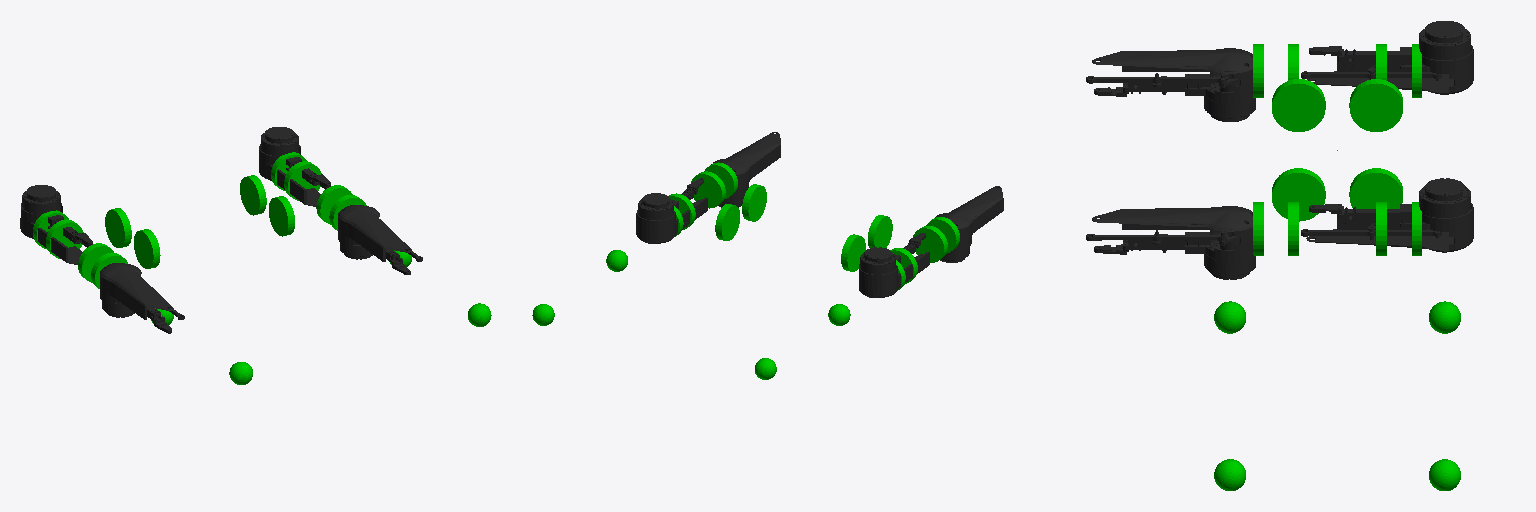
--- Render facts (derived) ---
3 views of the same robot in one strip: view 1: azimuth 30°, elevation 25°; view 2: azimuth 150°, elevation 25°; view 3: azimuth 270°, elevation 25° (orthographic).
Model b1_description with 31 links and 30 joints (12 revolute, 18 fixed), rooted at base, posed joints at zero except 4 at the middle of their limits (FR_calf_joint = -1.6, FL_calf_joint = -1.6, RR_calf_joint = -1.6, RL_calf_joint = -1.6).
Visible links, largest first — view 1: FR_thigh, RR_thigh, RL_thigh, FL_thigh, FL_hip_rotor, RL_hip_rotor, RR_hip_rotor, FR_hip_rotor, RR_thigh_rotor, FR_thigh_rotor, FL_thigh_rotor, RL_thigh_rotor; view 2: FL_thigh, RL_thigh, RR_thigh, FR_thigh, RR_thigh_rotor, FR_thigh_rotor, FR_hip_rotor, FL_hip_rotor, RL_hip_rotor, RR_hip_rotor, RR_calf_rotor, FR_calf_rotor; view 3: RR_thigh, FR_thigh, FL_thigh, RL_thigh, RR_hip_rotor, RL_hip_rotor, FR_hip_rotor, FL_hip_rotor, RL_foot, FL_foot, RR_foot, FR_foot (+4 smaller).
Link boxes in pixels (bbox=[...]): FR_thigh: bbox=[338, 205, 422, 274]; RR_thigh: bbox=[100, 263, 184, 333]; RL_thigh: bbox=[20, 185, 92, 264]; FL_thigh: bbox=[259, 127, 330, 206]; FL_hip_rotor: bbox=[240, 175, 266, 215]; RL_hip_rotor: bbox=[105, 208, 131, 247]; RR_hip_rotor: bbox=[134, 229, 160, 268]; FR_hip_rotor: bbox=[269, 196, 294, 236]; RR_thigh_rotor: bbox=[78, 243, 113, 282]; FR_thigh_rotor: bbox=[316, 185, 352, 224]; FL_thigh_rotor: bbox=[284, 161, 321, 200]; RL_thigh_rotor: bbox=[46, 219, 83, 258]; FL_thigh: bbox=[636, 178, 707, 243]; RL_thigh: bbox=[859, 233, 929, 297]; RR_thigh: bbox=[935, 186, 1003, 262]; FR_thigh: bbox=[711, 132, 780, 207]; RR_thigh_rotor: bbox=[913, 226, 947, 262]; FR_thigh_rotor: bbox=[691, 171, 725, 208]; FR_hip_rotor: bbox=[742, 184, 766, 221]; FL_hip_rotor: bbox=[715, 204, 739, 240]; RL_hip_rotor: bbox=[841, 234, 865, 271]; RR_hip_rotor: bbox=[868, 215, 892, 247]; RR_calf_rotor: bbox=[926, 217, 959, 253]; FR_calf_rotor: bbox=[704, 162, 737, 198]; RR_thigh: bbox=[1086, 48, 1255, 121]; FR_thigh: bbox=[1086, 206, 1255, 279]; FL_thigh: bbox=[1301, 178, 1473, 252]; RL_thigh: bbox=[1301, 21, 1473, 94]; RR_hip_rotor: bbox=[1272, 79, 1325, 131]; RL_hip_rotor: bbox=[1349, 79, 1402, 131]; FR_hip_rotor: bbox=[1272, 168, 1325, 221]; FL_hip_rotor: bbox=[1349, 168, 1402, 208]; RL_foot: bbox=[1429, 301, 1460, 333]; FL_foot: bbox=[1429, 459, 1460, 490]; RR_foot: bbox=[1214, 301, 1245, 333]; FR_foot: bbox=[1214, 459, 1245, 490].
Size in the robot's own frame: 1.12 by 0.7168 by 0.4568 metres.
4 mesh visuals loaded from 5 distinct referenced files (2 Collada DAE); not drawn: 9 (reference not matched to a file when rendering).

URDF robot description (b1_description):
<?xml version="1.0" ?>
<robot name="b1_description">
  <material name="black">
    <color rgba="0.0 0.0 0.0 1.0"/>
  </material>
  <material name="blue">
    <color rgba="0.0 0.0 0.8 1.0"/>
  </material>
  <material name="green">
    <color rgba="0.0 0.8 0.0 1.0"/>
  </material>
  <material name="grey">
    <color rgba="0.2 0.2 0.2 1.0"/>
  </material>
  <material name="silver">
    <color rgba="0.9137254901960784 0.9137254901960784 0.8470588235294118 1.0"/>
  </material>
  <material name="orange">
    <color rgba="1.0 0.4235294117647059 0.0392156862745098 1.0"/>
  </material>
  <material name="brown">
    <color rgba="0.8705882352941177 0.8117647058823529 0.7647058823529411 1.0"/>
  </material>
  <material name="red">
    <color rgba="0.8 0.0 0.0 1.0"/>
  </material>
  <material name="white">
    <color rgba="1.0 1.0 1.0 1.0"/>
  </material>
  <link name="base">
    <visual>
      <origin rpy="0 0 0" xyz="0 0 0"/>
      <geometry>
        <box size="0.001 0.001 0.001"/>
      </geometry>
    </visual>
  </link>
  <joint name="floating_base" type="fixed">
    <origin rpy="0 0 0" xyz="0 0 0"/>
    <parent link="base"/>
    <child link="trunk"/>
  </joint>
  <link name="trunk">
    <visual>
      <origin rpy="-1.57 0 0" xyz="0 0 0"/>
      <geometry>
        <mesh filename="../meshes/trunk.dae" scale="1 1 1"/>
      </geometry>
      <material name="grey"/>
    </visual>
    <collision>
      <origin rpy="0 0 0" xyz="0 0 0"/>
      <geometry>
        <box size="0.647 0.3 0.15"/>
      </geometry>
    </collision>
    <inertial>
      <origin rpy="0 0 0" xyz="0.008987 0.002243 0.003013"/>
      <mass value="25"/>
      <inertia ixx="0.183142146" ixy="-0.001379002" ixz="-0.027956055" iyy="0.756327752" iyz="0.000193774" izz="0.783777558"/>
    </inertial>
  </link>
  <joint name="imu_joint" type="fixed">
    <parent link="trunk"/>
    <child link="imu_link"/>
    <origin rpy="0 0 0" xyz="0 0 0"/>
  </joint>
  <link name="imu_link">
    <inertial>
      <mass value="0.001"/>
      <origin rpy="0 0 0" xyz="0 0 0"/>
      <inertia ixx="0.0001" ixy="0" ixz="0" iyy="0.000001" iyz="0" izz="0.0001"/>
    </inertial>
    <visual>
      <origin rpy="0 0 0" xyz="0 0 0"/>
      <geometry>
        <box size="0.001 0.001 0.001"/>
      </geometry>
      <material name="red"/>
    </visual>
    <collision>
      <origin rpy="0 0 0" xyz="0 0 0"/>
      <geometry>
        <box size=".001 .001 .001"/>
      </geometry>
    </collision>
  </link>
  <joint name="FR_hip_joint" type="revolute">
    <origin rpy="0 0 0" xyz="0.3455 -0.072 0"/>
    <parent link="trunk"/>
    <child link="FR_hip"/>
    <axis xyz="1 0 0"/>
    <dynamics damping="0" friction="0"/>
    <limit effort="91.0035" lower="-0.75" upper="0.75" velocity="19.69"/>
  </joint>
  <joint name="FR_hip_rotor_joint" type="fixed">
    <origin rpy="0 0 0" xyz="0.1955 -0.072 0"/>
    <parent link="trunk"/>
    <child link="FR_hip_rotor"/>
  </joint>
  <link name="FR_hip">
    <visual>
      <origin rpy="1.57 0 0" xyz="0 0 0"/>
      <geometry>
        <mesh filename="../meshes/hip.dae" scale="1 1 1"/>
      </geometry>
      <material name="grey"/>
    </visual>
    <collision>
      <origin rpy="1.5707963267948966 0 0" xyz="0 -0.12675 0"/>
      <geometry>
        <cylinder length="0.04" radius="0.09"/>
      </geometry>
    </collision>
    <inertial>
      <origin rpy="0 0 0" xyz="-0.020298 -0.009758 0.000109"/>
      <mass value="2.1"/>
      <inertia ixx="0.00406608" ixy="0.000288071" ixz="-4.371e-06" iyy="0.008775259" iyz="-1.811e-06" izz="0.006060348"/>
    </inertial>
  </link>
  <link name="FR_hip_rotor">
    <visual>
      <origin rpy="0 1.5707963267948966 0" xyz="0 0 0"/>
      <geometry>
        <cylinder length="0.02" radius="0.05"/>
      </geometry>
      <material name="green"/>
    </visual>
    <collision>
      <origin rpy="0 1.5707963267948966 0" xyz="0 0 0"/>
      <geometry>
        <cylinder length="0.02" radius="0.05"/>
      </geometry>
    </collision>
    <inertial>
      <origin rpy="0 0 0" xyz="0.0 0.0 0.0"/>
      <mass value="0.199"/>
      <inertia ixx="0.00039249" ixy="0.0" ixz="0.0" iyy="0.000219397" iyz="0.0" izz="0.000219397"/>
    </inertial>
  </link>
  <joint name="FR_thigh_joint" type="revolute">
    <origin rpy="0 0 0" xyz="0 -0.12675 0"/>
    <parent link="FR_hip"/>
    <child link="FR_thigh"/>
    <axis xyz="0 1 0"/>
    <dynamics damping="0" friction="0"/>
    <limit effort="93.33" lower="-1.0" upper="3.5" velocity="23.32"/>
  </joint>
  <joint name="FR_thigh_rotor_joint" type="fixed">
    <origin rpy="0 0 0" xyz="0.0 -0.00935 0"/>
    <parent link="FR_hip"/>
    <child link="FR_thigh_rotor"/>
  </joint>
  <link name="FR_thigh">
    <visual>
      <origin rpy="-1.57 0 0" xyz="0 0 0"/>
      <geometry>
        <mesh filename="../meshes/thigh_mirror.dae" scale="1 1 1"/>
      </geometry>
      <material name="grey"/>
    </visual>
    <collision>
      <origin rpy="0 1.5707963267948966 0" xyz="0 0 -0.175"/>
      <geometry>
        <box size="0.35 0.05 0.08"/>
      </geometry>
    </collision>
    <inertial>
      <origin rpy="0 0 0" xyz="-0.000235 0.028704 -0.054169"/>
      <mass value="3.934"/>
      <inertia ixx="0.044459086" ixy="-0.000128738" ixz="-0.002343913" iyy="0.046023457" iyz="-0.006032996" izz="0.008696078"/>
    </inertial>
  </link>
  <link name="FR_thigh_rotor">
    <visual>
      <origin rpy="1.5707963267948966 0 0" xyz="0 0 0"/>
      <geometry>
        <cylinder length="0.02" radius="0.05"/>
      </geometry>
      <material name="green"/>
    </visual>
    <collision>
      <origin rpy="1.5707963267948966 0 0" xyz="0 0 0"/>
      <geometry>
        <cylinder length="0.02" radius="0.05"/>
      </geometry>
    </collision>
    <inertial>
      <origin rpy="0 0 0" xyz="0.0 0.0 0.0"/>
      <mass value="0.266"/>
      <inertia ixx="0.000485657" ixy="0.0" ixz="0.0" iyy="0.00091885" iyz="0.0" izz="0.000485657"/>
    </inertial>
  </link>
  <joint name="FR_calf_joint" type="revolute">
    <origin rpy="0 0 0" xyz="0 0 -0.35"/>
    <parent link="FR_thigh"/>
    <child link="FR_calf"/>
    <axis xyz="0 1 0"/>
    <dynamics damping="0" friction="0"/>
    <limit effort="140" lower="-2.6" upper="-0.6" velocity="15.55"/>
  </joint>
  <joint name="FR_calf_rotor_joint" type="fixed">
    <origin rpy="0 0 0" xyz="0.0 0.0519 0"/>
    <parent link="FR_thigh"/>
    <child link="FR_calf_rotor"/>
  </joint>
  <link name="FR_calf">
    <visual>
      <origin rpy="-1.57 0 0" xyz="0 0 0"/>
      <geometry>
        <mesh filename="../meshes/calf.dae" scale="1 1 1"/>
      </geometry>
      <material name="grey"/>
    </visual>
    <collision>
      <origin rpy="0 1.5707963267948966 0" xyz="0 0 -0.175"/>
      <geometry>
        <box size="0.35 0.04 0.05"/>
      </geometry>
    </collision>
    <inertial>
      <origin rpy="0 0 0" xyz="0.005237 0.0 -0.202805"/>
      <mass value="0.857"/>
      <inertia ixx="0.015011003" ixy="5.2e-08" ixz="0.000250042" iyy="0.015159462" iyz="4.61e-07" izz="0.000375749"/>
    </inertial>
  </link>
  <link name="FR_calf_rotor">
    <visual>
      <origin rpy="1.5707963267948966 0 0" xyz="0 0 0"/>
      <geometry>
        <cylinder length="0.02" radius="0.05"/>
      </geometry>
      <material name="green"/>
    </visual>
    <collision>
      <origin rpy="1.5707963267948966 0 0" xyz="0 0 0"/>
      <geometry>
        <cylinder length="0.02" radius="0.05"/>
      </geometry>
    </collision>
    <inertial>
      <origin rpy="0 0 0" xyz="0.0 0.0 0.0"/>
      <mass value="0.266"/>
      <inertia ixx="0.000485657" ixy="0.0" ixz="0.0" iyy="0.00091885" iyz="0.0" izz="0.000485657"/>
    </inertial>
  </link>
  <joint name="FR_foot_fixed" type="fixed" dont_collapse="true">
    <origin rpy="0 0 0" xyz="0 0 -0.35"/>
    <parent link="FR_calf"/>
    <child link="FR_foot"/>
  </joint>
  <link name="FR_foot">
    <visual>
      <origin rpy="0 0 0" xyz="0 0 0"/>
      <geometry>
        <sphere radius="0.03"/>
      </geometry>
      <material name="green"/>
    </visual>
    <collision>
      <origin rpy="0 0 0" xyz="0 0 0"/>
      <geometry>
        <sphere radius="0.04"/>
      </geometry>
    </collision>
    <inertial>
      <mass value="0.05"/>
      <inertia ixx="3.2000000000000005e-05" ixy="0.0" ixz="0.0" iyy="3.2000000000000005e-05" iyz="0.0" izz="3.2000000000000005e-05"/>
    </inertial>
  </link>
  <joint name="FL_hip_joint" type="revolute">
    <origin rpy="0 0 0" xyz="0.3455 0.072 0"/>
    <parent link="trunk"/>
    <child link="FL_hip"/>
    <axis xyz="1 0 0"/>
    <dynamics damping="0" friction="0"/>
    <limit effort="91.0035" lower="-0.75" upper="0.75" velocity="19.69"/>
  </joint>
  <joint name="FL_hip_rotor_joint" type="fixed">
    <origin rpy="0 0 0" xyz="0.1955 0.072 0"/>
    <parent link="trunk"/>
    <child link="FL_hip_rotor"/>
  </joint>
  <link name="FL_hip">
    <visual>
      <origin rpy="-1.57 0 0" xyz="0 0 0"/>
      <geometry>
        <mesh filename="../meshes/hip.dae" scale="1 1 1"/>
      </geometry>
      <material name="grey"/>
    </visual>
    <collision>
      <origin rpy="1.5707963267948966 0 0" xyz="0 0.12675 0"/>
      <geometry>
        <cylinder length="0.04" radius="0.09"/>
      </geometry>
    </collision>
    <inertial>
      <origin rpy="0 0 0" xyz="-0.020298 0.009758 0.000109"/>
      <mass value="2.1"/>
      <inertia ixx="0.00406608" ixy="-0.000288071" ixz="-4.371e-06" iyy="0.008775259" iyz="1.811e-06" izz="0.006060348"/>
    </inertial>
  </link>
  <link name="FL_hip_rotor">
    <visual>
      <origin rpy="0 1.5707963267948966 0" xyz="0 0 0"/>
      <geometry>
        <cylinder length="0.02" radius="0.05"/>
      </geometry>
      <material name="green"/>
    </visual>
    <collision>
      <origin rpy="0 1.5707963267948966 0" xyz="0 0 0"/>
      <geometry>
        <cylinder length="0.02" radius="0.05"/>
      </geometry>
    </collision>
    <inertial>
      <origin rpy="0 0 0" xyz="0.0 0.0 0.0"/>
      <mass value="0.199"/>
      <inertia ixx="0.00039249" ixy="0.0" ixz="0.0" iyy="0.000219397" iyz="0.0" izz="0.000219397"/>
    </inertial>
  </link>
  <joint name="FL_thigh_joint" type="revolute">
    <origin rpy="0 0 0" xyz="0 0.12675 0"/>
    <parent link="FL_hip"/>
    <child link="FL_thigh"/>
    <axis xyz="0 1 0"/>
    <dynamics damping="0" friction="0"/>
    <limit effort="93.33" lower="-1.0" upper="3.5" velocity="23.32"/>
  </joint>
  <joint name="FL_thigh_rotor_joint" type="fixed">
    <origin rpy="0 0 0" xyz="0.0 0.00935 0"/>
    <parent link="FL_hip"/>
    <child link="FL_thigh_rotor"/>
  </joint>
  <link name="FL_thigh">
    <visual>
      <origin rpy="-1.57 0 0" xyz="0 0 0"/>
      <geometry>
        <mesh filename="../meshes/thigh.dae" scale="1 1 1"/>
      </geometry>
      <material name="grey"/>
    </visual>
    <collision>
      <origin rpy="0 1.5707963267948966 0" xyz="0 0 -0.175"/>
      <geometry>
        <box size="0.35 0.05 0.08"/>
      </geometry>
    </collision>
    <inertial>
      <origin rpy="0 0 0" xyz="-0.000235 -0.028704 -0.054169"/>
      <mass value="3.934"/>
      <inertia ixx="0.044459086" ixy="0.000128738" ixz="-0.002343913" iyy="0.046023457" iyz="0.006032996" izz="0.008696078"/>
    </inertial>
  </link>
  <link name="FL_thigh_rotor">
    <visual>
      <origin rpy="1.5707963267948966 0 0" xyz="0 0 0"/>
      <geometry>
        <cylinder length="0.02" radius="0.05"/>
      </geometry>
      <material name="green"/>
    </visual>
    <collision>
      <origin rpy="1.5707963267948966 0 0" xyz="0 0 0"/>
      <geometry>
        <cylinder length="0.02" radius="0.05"/>
      </geometry>
    </collision>
    <inertial>
      <origin rpy="0 0 0" xyz="0.0 0.0 0.0"/>
      <mass value="0.266"/>
      <inertia ixx="0.000485657" ixy="0.0" ixz="0.0" iyy="0.00091885" iyz="0.0" izz="0.000485657"/>
    </inertial>
  </link>
  <joint name="FL_calf_joint" type="revolute">
    <origin rpy="0 0 0" xyz="0 0 -0.35"/>
    <parent link="FL_thigh"/>
    <child link="FL_calf"/>
    <axis xyz="0 1 0"/>
    <dynamics damping="0" friction="0"/>
    <limit effort="140" lower="-2.6" upper="-0.6" velocity="15.55"/>
  </joint>
  <joint name="FL_calf_rotor_joint" type="fixed">
    <origin rpy="0 0 0" xyz="0.0 -0.0519 0"/>
    <parent link="FL_thigh"/>
    <child link="FL_calf_rotor"/>
  </joint>
  <link name="FL_calf">
    <visual>
      <origin rpy="-1.57 0 0" xyz="0 0 0"/>
      <geometry>
        <mesh filename="../meshes/calf.dae" scale="1 1 1"/>
      </geometry>
      <material name="grey"/>
    </visual>
    <collision>
      <origin rpy="0 1.5707963267948966 0" xyz="0 0 -0.175"/>
      <geometry>
        <box size="0.35 0.04 0.05"/>
      </geometry>
    </collision>
    <inertial>
      <origin rpy="0 0 0" xyz="0.005237 0.0 -0.202805"/>
      <mass value="0.857"/>
      <inertia ixx="0.015011003" ixy="5.2e-08" ixz="0.000250042" iyy="0.015159462" iyz="4.61e-07" izz="0.000375749"/>
    </inertial>
  </link>
  <link name="FL_calf_rotor">
    <visual>
      <origin rpy="1.5707963267948966 0 0" xyz="0 0 0"/>
      <geometry>
        <cylinder length="0.02" radius="0.05"/>
      </geometry>
      <material name="green"/>
    </visual>
    <collision>
      <origin rpy="1.5707963267948966 0 0" xyz="0 0 0"/>
      <geometry>
        <cylinder length="0.02" radius="0.05"/>
      </geometry>
    </collision>
    <inertial>
      <origin rpy="0 0 0" xyz="0.0 0.0 0.0"/>
      <mass value="0.266"/>
      <inertia ixx="0.000485657" ixy="0.0" ixz="0.0" iyy="0.00091885" iyz="0.0" izz="0.000485657"/>
    </inertial>
  </link>
  <joint name="FL_foot_fixed" type="fixed" dont_collapse="true">
    <origin rpy="0 0 0" xyz="0 0 -0.35"/>
    <parent link="FL_calf"/>
    <child link="FL_foot"/>
  </joint>
  <link name="FL_foot">
    <visual>
      <origin rpy="0 0 0" xyz="0 0 0"/>
      <geometry>
        <sphere radius="0.03"/>
      </geometry>
      <material name="green"/>
    </visual>
    <collision>
      <origin rpy="0 0 0" xyz="0 0 0"/>
      <geometry>
        <sphere radius="0.04"/>
      </geometry>
    </collision>
    <inertial>
      <mass value="0.05"/>
      <inertia ixx="3.2000000000000005e-05" ixy="0.0" ixz="0.0" iyy="3.2000000000000005e-05" iyz="0.0" izz="3.2000000000000005e-05"/>
    </inertial>
  </link>

  <joint name="RR_hip_joint" type="revolute">
    <origin rpy="0 0 0" xyz="-0.3455 -0.072 0"/>
    <parent link="trunk"/>
    <child link="RR_hip"/>
    <axis xyz="1 0 0"/>
    <dynamics damping="0" friction="0"/>
    <limit effort="91.0035" lower="-0.75" upper="0.75" velocity="19.69"/>
  </joint>
  <joint name="RR_hip_rotor_joint" type="fixed">
    <origin rpy="0 0 0" xyz="-0.1955 -0.072 0"/>
    <parent link="trunk"/>
    <child link="RR_hip_rotor"/>
  </joint>
  <link name="RR_hip">
    <visual>
      <origin rpy="1.57 3.141592653589793 0" xyz="0 0 0"/>
      <geometry>
        <mesh filename="../meshes/hip.dae" scale="1 1 1"/>
      </geometry>
      <material name="grey"/>
    </visual>
    <collision>
      <origin rpy="1.5707963267948966 0 0" xyz="0 -0.12675 0"/>
      <geometry>
        <cylinder length="0.04" radius="0.09"/>
      </geometry>
    </collision>
    <inertial>
      <origin rpy="0 0 0" xyz="0.020298 -0.009758 0.000109"/>
      <mass value="2.1"/>
      <inertia ixx="0.00406608" ixy="-0.000288071" ixz="4.371e-06" iyy="0.008775259" iyz="-1.811e-06" izz="0.006060348"/>
    </inertial>
  </link>
  <link name="RR_hip_rotor">
    <visual>
      <origin rpy="0 1.5707963267948966 0" xyz="0 0 0"/>
      <geometry>
        <cylinder length="0.02" radius="0.05"/>
      </geometry>
      <material name="green"/>
    </visual>
    <collision>
      <origin rpy="0 1.5707963267948966 0" xyz="0 0 0"/>
      <geometry>
        <cylinder length="0.02" radius="0.05"/>
      </geometry>
    </collision>
    <inertial>
      <origin rpy="0 0 0" xyz="0.0 0.0 0.0"/>
      <mass value="0.199"/>
      <inertia ixx="0.00039249" ixy="0.0" ixz="0.0" iyy="0.000219397" iyz="0.0" izz="0.000219397"/>
    </inertial>
  </link>
  <joint name="RR_thigh_joint" type="revolute">
    <origin rpy="0 0 0" xyz="0 -0.12675 0"/>
    <parent link="RR_hip"/>
    <child link="RR_thigh"/>
    <axis xyz="0 1 0"/>
    <dynamics damping="0" friction="0"/>
    <limit effort="93.33" lower="-1.0" upper="3.5" velocity="23.32"/>
  </joint>
  <joint name="RR_thigh_rotor_joint" type="fixed">
    <origin rpy="0 0 0" xyz="0.0 -0.00935 0"/>
    <parent link="RR_hip"/>
    <child link="RR_thigh_rotor"/>
  </joint>
  <link name="RR_thigh">
    <visual>
      <origin rpy="-1.57 0 0" xyz="0 0 0"/>
      <geometry>
        <mesh filename="../meshes/thigh_mirror.dae" scale="1 1 1"/>
      </geometry>
      <material name="grey"/>
    </visual>
    <collision>
      <origin rpy="0 1.5707963267948966 0" xyz="0 0 -0.175"/>
      <geometry>
        <box size="0.35 0.05 0.08"/>
      </geometry>
    </collision>
    <inertial>
      <origin rpy="0 0 0" xyz="-0.000235 0.028704 -0.054169"/>
      <mass value="3.934"/>
      <inertia ixx="0.044459086" ixy="-0.000128738" ixz="-0.002343913" iyy="0.046023457" iyz="-0.006032996" izz="0.008696078"/>
    </inertial>
  </link>
  <link name="RR_thigh_rotor">
    <visual>
      <origin rpy="1.5707963267948966 0 0" xyz="0 0 0"/>
      <geometry>
        <cylinder length="0.02" radius="0.05"/>
      </geometry>
      <material name="green"/>
    </visual>
    <collision>
      <origin rpy="1.5707963267948966 0 0" xyz="0 0 0"/>
      <geometry>
        <cylinder length="0.02" radius="0.05"/>
      </geometry>
    </collision>
    <inertial>
      <origin rpy="0 0 0" xyz="0.0 0.0 0.0"/>
      <mass value="0.266"/>
      <inertia ixx="0.000485657" ixy="0.0" ixz="0.0" iyy="0.00091885" iyz="0.0" izz="0.000485657"/>
    </inertial>
  </link>
  <joint name="RR_calf_joint" type="revolute">
    <origin rpy="0 0 0" xyz="0 0 -0.35"/>
    <parent link="RR_thigh"/>
    <child link="RR_calf"/>
    <axis xyz="0 1 0"/>
    <dynamics damping="0" friction="0"/>
    <limit effort="140" lower="-2.6" upper="-0.6" velocity="15.55"/>
  </joint>
  <joint name="RR_calf_rotor_joint" type="fixed">
    <origin rpy="0 0 0" xyz="0.0 0.0519 0"/>
    <parent link="RR_thigh"/>
    <child link="RR_calf_rotor"/>
  </joint>
  <link name="RR_calf">
    <visual>
      <origin rpy="-1.57 0 0" xyz="0 0 0"/>
      <geometry>
        <mesh filename="../meshes/calf.dae" scale="1 1 1"/>
      </geometry>
      <material name="grey"/>
    </visual>
    <collision>
      <origin rpy="0 1.5707963267948966 0" xyz="0 0 -0.175"/>
      <geometry>
        <box size="0.35 0.04 0.05"/>
      </geometry>
    </collision>
    <inertial>
      <origin rpy="0 0 0" xyz="0.005237 0.0 -0.202805"/>
      <mass value="0.857"/>
      <inertia ixx="0.015011003" ixy="5.2e-08" ixz="0.000250042" iyy="0.015159462" iyz="4.61e-07" izz="0.000375749"/>
    </inertial>
  </link>
  <link name="RR_calf_rotor">
    <visual>
      <origin rpy="1.5707963267948966 0 0" xyz="0 0 0"/>
      <geometry>
        <cylinder length="0.02" radius="0.05"/>
      </geometry>
      <material name="green"/>
    </visual>
    <collision>
      <origin rpy="1.5707963267948966 0 0" xyz="0 0 0"/>
      <geometry>
        <cylinder length="0.02" radius="0.05"/>
      </geometry>
    </collision>
    <inertial>
      <origin rpy="0 0 0" xyz="0.0 0.0 0.0"/>
      <mass value="0.266"/>
      <inertia ixx="0.000485657" ixy="0.0" ixz="0.0" iyy="0.00091885" iyz="0.0" izz="0.000485657"/>
    </inertial>
  </link>
  <joint name="RR_foot_fixed" type="fixed" dont_collapse="true">
    <origin rpy="0 0 0" xyz="0 0 -0.35"/>
    <parent link="RR_calf"/>
    <child link="RR_foot"/>
  </joint>
  <link name="RR_foot">
    <visual>
      <origin rpy="0 0 0" xyz="0 0 0"/>
      <geometry>
        <sphere radius="0.03"/>
      </geometry>
      <material name="green"/>
    </visual>
    <collision>
      <origin rpy="0 0 0" xyz="0 0 0"/>
      <geometry>
        <sphere radius="0.04"/>
      </geometry>
    </collision>
    <inertial>
      <mass value="0.05"/>
      <inertia ixx="3.2000000000000005e-05" ixy="0.0" ixz="0.0" iyy="3.2000000000000005e-05" iyz="0.0" izz="3.2000000000000005e-05"/>
    </inertial>
  </link>

  <joint name="RL_hip_joint" type="revolute">
    <origin rpy="0 0 0" xyz="-0.3455 0.072 0"/>
    <parent link="trunk"/>
    <child link="RL_hip"/>
    <axis xyz="1 0 0"/>
    <dynamics damping="0" friction="0"/>
    <limit effort="91.0035" lower="-0.75" upper="0.75" velocity="19.69"/>
  </joint>
  <joint name="RL_hip_rotor_joint" type="fixed">
    <origin rpy="0 0 0" xyz="-0.1955 0.072 0"/>
    <parent link="trunk"/>
    <child link="RL_hip_rotor"/>
  </joint>
  <link name="RL_hip">
    <visual>
      <origin rpy="-1.57 3.141592653589793 0" xyz="0 0 0"/>
      <geometry>
        <mesh filename="../meshes/hip.dae" scale="1 1 1"/>
      </geometry>
      <material name="grey"/>
    </visual>
    <collision>
      <origin rpy="1.5707963267948966 0 0" xyz="0 0.12675 0"/>
      <geometry>
        <cylinder length="0.04" radius="0.09"/>
      </geometry>
    </collision>
    <inertial>
      <origin rpy="0 0 0" xyz="0.020298 0.009758 0.000109"/>
      <mass value="2.1"/>
      <inertia ixx="0.00406608" ixy="0.000288071" ixz="4.371e-06" iyy="0.008775259" iyz="1.811e-06" izz="0.006060348"/>
    </inertial>
  </link>
  <link name="RL_hip_rotor">
    <visual>
      <origin rpy="0 1.5707963267948966 0" xyz="0 0 0"/>
      <geometry>
        <cylinder length="0.02" radius="0.05"/>
      </geometry>
      <material name="green"/>
    </visual>
    <collision>
      <origin rpy="0 1.5707963267948966 0" xyz="0 0 0"/>
      <geometry>
        <cylinder length="0.02" radius="0.05"/>
      </geometry>
    </collision>
    <inertial>
      <origin rpy="0 0 0" xyz="0.0 0.0 0.0"/>
      <mass value="0.199"/>
      <inertia ixx="0.00039249" ixy="0.0" ixz="0.0" iyy="0.000219397" iyz="0.0" izz="0.000219397"/>
    </inertial>
  </link>
  <joint name="RL_thigh_joint" type="revolute">
    <origin rpy="0 0 0" xyz="0 0.12675 0"/>
    <parent link="RL_hip"/>
    <child link="RL_thigh"/>
    <axis xyz="0 1 0"/>
    <dynamics damping="0" friction="0"/>
    <limit effort="93.33" lower="-1.0" upper="3.5" velocity="23.32"/>
  </joint>
  <joint name="RL_thigh_rotor_joint" type="fixed">
    <origin rpy="0 0 0" xyz="0.0 0.00935 0"/>
    <parent link="RL_hip"/>
    <child link="RL_thigh_rotor"/>
  </joint>
  <link name="RL_thigh">
    <visual>
      <origin rpy="-1.57 0 0" xyz="0 0 0"/>
      <geometry>
        <mesh filename="../meshes/thigh.dae" scale="1 1 1"/>
      </geometry>
      <material name="grey"/>
    </visual>
    <collision>
      <origin rpy="0 1.5707963267948966 0" xyz="0 0 -0.175"/>
      <geometry>
        <box size="0.35 0.05 0.08"/>
      </geometry>
    </collision>
    <inertial>
      <origin rpy="0 0 0" xyz="-0.000235 -0.028704 -0.054169"/>
      <mass value="3.934"/>
      <inertia ixx="0.044459086" ixy="0.000128738" ixz="-0.002343913" iyy="0.046023457" iyz="0.006032996" izz="0.008696078"/>
    </inertial>
  </link>
  <link name="RL_thigh_rotor">
    <visual>
      <origin rpy="1.5707963267948966 0 0" xyz="0 0 0"/>
      <geometry>
        <cylinder length="0.02" radius="0.05"/>
      </geometry>
      <material name="green"/>
    </visual>
    <collision>
      <origin rpy="1.5707963267948966 0 0" xyz="0 0 0"/>
      <geometry>
        <cylinder length="0.02" radius="0.05"/>
      </geometry>
    </collision>
    <inertial>
      <origin rpy="0 0 0" xyz="0.0 0.0 0.0"/>
      <mass value="0.266"/>
      <inertia ixx="0.000485657" ixy="0.0" ixz="0.0" iyy="0.00091885" iyz="0.0" izz="0.000485657"/>
    </inertial>
  </link>
  <joint name="RL_calf_joint" type="revolute">
    <origin rpy="0 0 0" xyz="0 0 -0.35"/>
    <parent link="RL_thigh"/>
    <child link="RL_calf"/>
    <axis xyz="0 1 0"/>
    <dynamics damping="0" friction="0"/>
    <limit effort="140" lower="-2.6" upper="-0.6" velocity="15.55"/>
  </joint>
  <joint name="RL_calf_rotor_joint" type="fixed">
    <origin rpy="0 0 0" xyz="0.0 -0.0519 0"/>
    <parent link="RL_thigh"/>
    <child link="RL_calf_rotor"/>
  </joint>
  <link name="RL_calf">
    <visual>
      <origin rpy="-1.57 0 0" xyz="0 0 0"/>
      <geometry>
        <mesh filename="../meshes/calf.dae" scale="1 1 1"/>
      </geometry>
      <material name="grey"/>
    </visual>
    <collision>
      <origin rpy="0 1.5707963267948966 0" xyz="0 0 -0.175"/>
      <geometry>
        <box size="0.35 0.04 0.05"/>
      </geometry>
    </collision>
    <inertial>
      <origin rpy="0 0 0" xyz="0.005237 0.0 -0.202805"/>
      <mass value="0.857"/>
      <inertia ixx="0.015011003" ixy="5.2e-08" ixz="0.000250042" iyy="0.015159462" iyz="4.61e-07" izz="0.000375749"/>
    </inertial>
  </link>
  <link name="RL_calf_rotor">
    <visual>
      <origin rpy="1.5707963267948966 0 0" xyz="0 0 0"/>
      <geometry>
        <cylinder length="0.02" radius="0.05"/>
      </geometry>
      <material name="green"/>
    </visual>
    <collision>
      <origin rpy="1.5707963267948966 0 0" xyz="0 0 0"/>
      <geometry>
        <cylinder length="0.02" radius="0.05"/>
      </geometry>
    </collision>
    <inertial>
      <origin rpy="0 0 0" xyz="0.0 0.0 0.0"/>
      <mass value="0.266"/>
      <inertia ixx="0.000485657" ixy="0.0" ixz="0.0" iyy="0.00091885" iyz="0.0" izz="0.000485657"/>
    </inertial>
  </link>
  <joint name="RL_foot_fixed" type="fixed" dont_collapse="true">
    <origin rpy="0 0 0" xyz="0 0 -0.35"/>
    <parent link="RL_calf"/>
    <child link="RL_foot"/>
  </joint>
  <link name="RL_foot">
    <visual>
      <origin rpy="0 0 0" xyz="0 0 0"/>
      <geometry>
        <sphere radius="0.03"/>
      </geometry>
      <material name="green"/>
    </visual>
    <collision>
      <origin rpy="0 0 0" xyz="0 0 0"/>
      <geometry>
        <sphere radius="0.04"/>
      </geometry>
    </collision>
    <inertial>
      <mass value="0.05"/>
      <inertia ixx="3.2000000000000005e-05" ixy="0.0" ixz="0.0" iyy="3.2000000000000005e-05" iyz="0.0" izz="3.2000000000000005e-05"/>
    </inertial>
  </link>
</robot>
